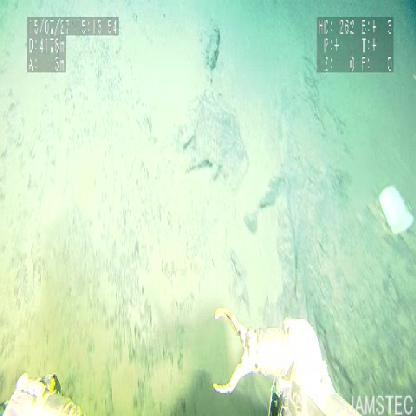Rác: (378, 186, 414, 235)
